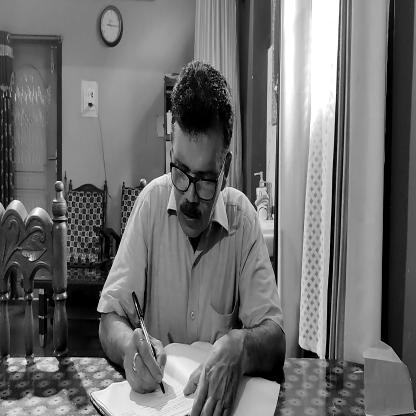Normal: (166, 57, 228, 234)
